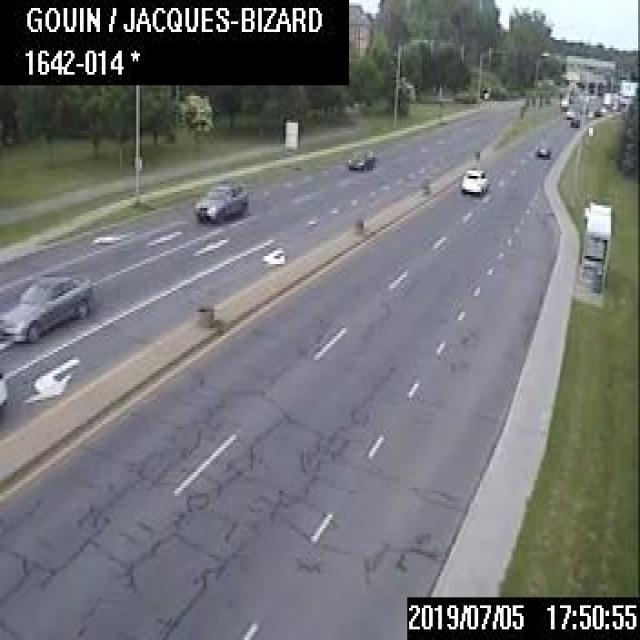vehicle: (0, 273, 91, 340), (192, 182, 247, 222), (460, 168, 487, 193), (347, 147, 375, 170), (534, 141, 549, 155), (0, 368, 5, 408), (558, 94, 567, 106), (564, 106, 573, 115), (569, 116, 578, 124)
